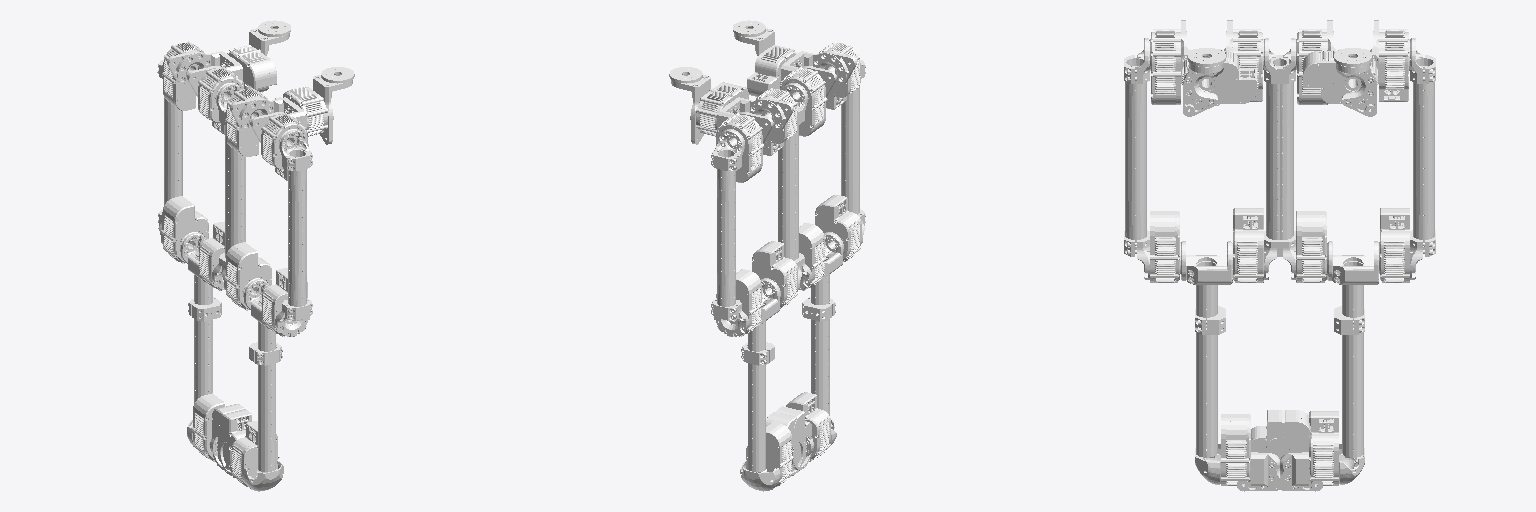
--- Render facts (derived) ---
Views: 3 orthographic renders of the robot side by side, from view 1: azimuth 30°, elevation 25°; view 2: azimuth 150°, elevation 25°; view 3: azimuth 270°, elevation 25°.
Robot: Florence — 26 links, 25 joints (12 revolute, 13 fixed); root link World; default pose: all joints at 0.
Visible links, largest first — view 1: Link3R, Link3L, Link4R, Link4L, Link2R, Link2L, Link1R, Link1L, Link5L, Link5R; view 2: Link3L, Link3R, Link4L, Link4R, Link2L, Link2R, Link1L, Link1R, Link5L, Link5R; view 3: Link3L, Link3R, Link4L, Link4R, Link2R, Link2L, Link1R, Link1L, Link5R, Link5L.
Link boxes in pixels (x1=…): Link3R: x1=222, y1=106, x2=312, y2=336; Link3L: x1=157, y1=60, x2=241, y2=290; Link4R: x1=232, y1=277, x2=283, y2=491; Link4L: x1=179, y1=231, x2=224, y2=461; Link2R: x1=225, y1=88, x2=308, y2=180; Link2L: x1=162, y1=41, x2=243, y2=134; Link1R: x1=275, y1=67, x2=354, y2=144; Link1L: x1=227, y1=20, x2=290, y2=92; Link5L: x1=209, y1=409, x2=251, y2=477; Link5R: x1=212, y1=404, x2=244, y2=470; Link3L: x1=711, y1=106, x2=801, y2=336; Link3R: x1=782, y1=60, x2=865, y2=290; Link4L: x1=740, y1=277, x2=793, y2=491; Link4R: x1=786, y1=231, x2=844, y2=461; Link2L: x1=716, y1=88, x2=796, y2=182; Link2R: x1=780, y1=42, x2=860, y2=136; Link1L: x1=669, y1=67, x2=748, y2=144; Link1R: x1=733, y1=20, x2=796, y2=96; Link5L: x1=776, y1=406, x2=812, y2=472; Link5R: x1=766, y1=412, x2=814, y2=477; Link3L: x1=1271, y1=38, x2=1435, y2=282; Link3R: x1=1124, y1=38, x2=1288, y2=282; Link4L: x1=1309, y1=241, x2=1379, y2=485; Link4R: x1=1180, y1=241, x2=1250, y2=485; Link2R: x1=1151, y1=20, x2=1262, y2=104; Link2L: x1=1297, y1=20, x2=1408, y2=104; Link1R: x1=1182, y1=48, x2=1256, y2=116; Link1L: x1=1303, y1=48, x2=1377, y2=116; Link5R: x1=1251, y1=410, x2=1322, y2=491; Link5L: x1=1237, y1=410, x2=1308, y2=491.
Size in the robot's own frame: 0.2155 by 0.4527 by 0.7491 metres.
Meshes: 10 distinct files referenced, 10 mesh visuals loaded (8 binary STL); not drawn: 3 (reference not matched to a file when rendering).

robot.urdf — Florence:
<?xml version="1.0"?>
<robot name="Florence">
    <link name="World"></link>

    ## BASE LINK
    <link name="FloBase">
        <inertial>
            <origin xyz="0.0066 -0.0002 0.0545" rpy="0 0 0"/>
            <mass value="18.3700"/>
            <inertia ixx="0.1768"  ixy="-0.0010"  ixz="0.0231" iyy="0.1913" iyz="0" izz="0.2864" />
        </inertial>
        <visual>
            <origin xyz="0 0 0" rpy="0 0 0" />
            <geometry>
                <mesh filename="package://florence_description/meshes/Base_rem.stl" />
            </geometry>
            <material name="Cyan">
                <color rgba="1.0 1.0 1.0 0.2"/>
            </material>
        </visual>

        #collision body base
        <collision>
            <origin xyz="0 0 0" rpy="0 0 0" />
            <geometry>
                <cylinder radius="0.301" length="0.038"/>
            </geometry>
        </collision>
        #collision body motor left
        <collision>
            <origin xyz="0.1680 0.0970 -0.0430" rpy="0 0 0.5236" />
            <geometry>
                <box size="0.1110 0.0740 0.0440"/>
            </geometry>
        </collision>
        #collision body motor right
        <collision>
            <origin xyz="0.1680 -0.0970 -0.0430" rpy="0 0 -0.5236" />
            <geometry>
                <box size="0.1110 0.0740 0.0440"/>
            </geometry>
        </collision>
    </link>

    <joint name="FloBaseJoint" type="fixed"><origin xyz="0 0 0.0" rpy="0 0 0"/><parent link="World"/><child link="FloBase"/></joint>


    ## LINK 1:
    # left
    <link name="Link1L">
        <inertial>
            <origin xyz="-0.0490 0.0102 0.0914" rpy="0 0 0"/>
            <mass value="0.7600"/>
            <inertia ixx="0.9643E-3"  ixy="9.6590e-05"  ixz="2.2060e-04" iyy="8.5310e-04" iyz="-1.3100e-05" izz="8.2910e-04" />
        </inertial>
        <visual>
            <origin xyz="0 0 0" rpy="0 0 0" />
            <geometry>
                <mesh filename="package://florence_description/meshes/Link1L_rem.stl" />
            </geometry>
            <material name="Cyan">
                <color rgba="1.0 1.0 1.0 0.2"/>
            </material>
        </visual>

        #collision body holder
        <!--collision>
            <origin xyz="-0.0380 -0.0350 0.0451" rpy="0 0 0" />
            <geometry>
                <box size="1.55e-05	 4e-05  0.000105"/>
            </geometry>
        </collision-->
        #collision body motor
        <collision>
            <origin xyz="-0.0595    0.0185    0.1001" rpy="0 0 0" />
            <geometry>
                <box size="0.0440 0.1110 0.0740"/>
            </geometry>
        </collision>
    </link>

    <joint name="LefHipYaw" type="revolute">
        <origin xyz="0.1841 0.1063 -0.0210" rpy="3.1416 0 0"/>
        <parent link="FloBase"/>
        <child link="Link1L"/>
        <axis xyz="0 0 1" />
        <limit lower="-1.5708" upper="1.5708" effort="150" velocity="1.5"/>
    </joint>

    # right
    <link name="Link1R">
        <inertial>
            <origin xyz="-0.0490 0.0102 0.0914" rpy="0 0 0"/>
            <mass value="0.7600"/>
            <inertia ixx="9.6430e-04"  ixy="-5.4240e-05"  ixz="2.2610e-05" iyy="8.5310e-04" iyz="8.5980e-05" izz="8.2910e-04" />
        </inertial>
        <visual>
            <origin xyz="0 0 0" rpy="0 0 0" />
            <geometry>
                <mesh filename="package://florence_description/meshes/Link1R_rem.stl" />
            </geometry>
            <material name="Cyan">
                <color rgba="1.0 1.0 1.0 0.2"/>
            </material>
        </visual>

        #collision body holder
        <!--collision>
           <origin xyz="-0.0380   -0.0250    0.0451" rpy="0 0 0" />
            <geometry>
                <box size="0.0155 0.0400 0.1050"/>
            </geometry>
        </collision-->
        #collision body motor
        <collision>
            <origin xyz="-0.0595   -0.0185    0.1001" rpy="0 0 0" />
            <geometry>
                <box size="0.0440 0.1110 0.0740"/>
            </geometry>
        </collision>
    </link>

    <joint name="RigHipYaw" type="revolute">
        <origin xyz="0.1841 -0.1063 -0.0210" rpy="3.1416 0 0"/>
        <parent link="FloBase"/>
        <child link="Link1R"/>
        <axis xyz="0 0 1" />
        <limit lower="-1.5708" upper="1.5708" effort="150" velocity="1.5"/>
    </joint>


    ## LINK 2:
    # left
    <link name="Link2L">
        <inertial>
            <origin xyz="0.0110 -0.0002 0.0951" rpy="0 0 0"/>
            <mass value="1.4279"/>
            <inertia ixx="0.0051"  ixy="0"  ixz="-0.0001" iyy="0.0017" iyz="0.0001" izz="0.0052" />
        </inertial>
        <visual>
            <origin xyz="0 0 0" rpy="0 0 0" />
            <geometry>
                <mesh filename="package://florence_description/meshes/Link2_rem.stl" />
            </geometry>
            <material name="Cyan">
                <color rgba="1.0 1.0 1.0 0.2"/>
            </material>
        </visual>

        #collision body motor 1
        <collision>
           <origin xyz="0.0185 -0.0595 0.1001" rpy="0 0 0" />
            <geometry>
                <box size="0.1110 0.0440 0.0740"/>
            </geometry>
        </collision>
        #collision body motor 2
        <collision>
            <origin xyz="0.0185 0.0590 0.1001" rpy="0 0 0" />
            <geometry>
                <box size="0.1110 0.0440 0.0740"/>
            </geometry>
        </collision>
        #collision body holder
        <collision>
            <origin xyz="-0.0050 0 0.0975" rpy="0 0 0" />
            <geometry>
                <box size="0.0600 0.0750 0.1050"/>
            </geometry>
        </collision>
    </link>

    <joint name="LefHipRoll" type="revolute">
        <origin xyz="-0.0375 0 0.1001" rpy="0 -1.5708 0"/>
        <parent link="Link1L"/>
        <child link="Link2L"/>
        <axis xyz="0 0 1" />
        <limit lower="-1.5708" upper="1.5708" effort="150" velocity="1.5"/>
    </joint>

    # right
    <link name="Link2R">
        <inertial>
            <origin xyz="0.0110 -0.0002 0.0951" rpy="0 0 0"/>
            <mass value="1.4279"/>
            <inertia ixx="0.0051"  ixy="0"  ixz="-0.0001" iyy="0.0017" iyz="0.0001" izz="0.0052" />
        </inertial>
        <visual>
            <origin xyz="0 0 0" rpy="0 0 0" />
            <geometry>
                <mesh filename="package://florence_description/meshes/Link2_rem.stl" />
            </geometry>
            <material name="Cyan">
                <color rgba="1.0 1.0 1.0 0.2"/>
            </material>
        </visual>

        #collision body motor 1
        <collision>
           <origin xyz="0.0185 -0.0595 0.1001" rpy="0 0 0" />
            <geometry>
                <box size="0.1110 0.0440 0.0740"/>
            </geometry>
        </collision>
        #collision body motor 2
        <collision>
            <origin xyz="0.0185 0.0590 0.1001" rpy="0 0 0" />
            <geometry>
                <box size="0.1110 0.0440 0.0740"/>
            </geometry>
        </collision>
        #collision body holder
        <collision>
            <origin xyz="-0.0050 0 0.0975" rpy="0 0 0" />
            <geometry>
                <box size="0.0600 0.0750 0.1050"/>
            </geometry>
        </collision>
    </link>

    <joint name="RigHipRoll" type="revolute">
        <origin xyz="-0.0375 0 0.1001" rpy="0 -1.5708 0"/>
        <parent link="Link1R"/>
        <child link="Link2R"/>
        <axis xyz="0 0 1" />
        <limit lower="-1.5708" upper="1.5708" effort="150" velocity="1.5"/>
    </joint>

    ## LINK 3:
    # left
    <link name="Link3L">
        <inertial>
            <origin xyz="0.2578 0 0" rpy="0 0 0"/>
            <mass value="1.7659"/>
            <inertia ixx="0.0109"  ixy="0"  ixz="0" iyy="0.0307" iyz="0" izz="0.0209" />
        </inertial>
        <visual>
            <origin xyz="0 0 0" rpy="0 0 0" />
            <geometry>
                <mesh filename="package://florence_description/meshes/Link3_rtbox_rem.stl" />
            </geometry>
            <material name="Cyan">
                <color rgba="1.0 1.0 1.0 0.2"/>
            </material>
        </visual>

        #collision body motor 1
        <collision>
           <origin xyz="0.3070 0 -0.0605" rpy="0 0 0" />
            <geometry>
                <box size="0.1110 0.0740 0.0440"/>
            </geometry>
        </collision>
        #collision body motor 2
        <collision>
           <origin xyz="0.3070 0 0.0605" rpy="0 0 0" />
            <geometry>
                <box size="0.1110 0.0740 0.0440"/>
            </geometry>
        </collision>
        #collision body rod 1
        <collision>
           <origin xyz="0.1625 0 -0.1026" rpy="0 0 0" />
            <geometry>
                <box size="0.3000 0.0480 0.0350"/>
            </geometry>
        </collision>
        #collision body rod 2
        <collision>
           <origin xyz="0.1625 0 0.1026" rpy="0 0 0" />
            <geometry>
                <box size="0.3000 0.0480 0.0350"/>
            </geometry>
        </collision>
    </link>

    <joint name="LefHipPitch" type="revolute">
        <origin xyz="0 0 0.1001" rpy="-1.5708 0 0"/>
        <parent link="Link2L"/>
        <child link="Link3L"/>
        <axis xyz="0 0 1" />
        <limit lower="-1.5708" upper="1.5708" effort="150" velocity="1.5"/>
    </joint>

    # right
    <link name="Link3R">
        <inertial>
            <origin xyz="0.2578 0 0" rpy="0 0 0"/>
            <mass value="1.7659"/>
            <inertia ixx="0.0109"  ixy="0"  ixz="0" iyy="0.0307" iyz="0" izz="0.0209" />
        </inertial>
        <visual>
            <origin xyz="0 0 0" rpy="0 0 0" />
            <geometry>
                <mesh filename="package://florence_description/meshes/Link3_rtbox_rem.stl" />
            </geometry>
            <material name="Cyan">
                <color rgba="1.0 1.0 1.0 0.2"/>
            </material>
        </visual>

        #collision body motor 1
        <collision>
           <origin xyz="0.3070 0 -0.0605" rpy="0 0 0" />
            <geometry>
                <box size="0.1110 0.0740 0.0440"/>
            </geometry>
        </collision>
        #collision body motor 2
        <collision>
           <origin xyz="0.3070 0 0.0605" rpy="0 0 0" />
            <geometry>
                <box size="0.1110 0.0740 0.0440"/>
            </geometry>
        </collision>
        #collision body rod 1
        <collision>
           <origin xyz="0.1625 0 -0.1026" rpy="0 0 0" />
            <geometry>
                <box size="0.3000 0.0480 0.0350"/>
            </geometry>
        </collision>
        #collision body rod 2
        <collision>
           <origin xyz="0.1625 0 0.1026" rpy="0 0 0" />
            <geometry>
                <box size="0.3000 0.0480 0.0350"/>
            </geometry>
        </collision>
    </link>

    <joint name="RigHipPitch" type="revolute">
        <origin xyz="0 0 0.1001" rpy="-1.5708 0 0"/>
        <parent link="Link2R"/>
        <child link="Link3R"/>
        <axis xyz="0 0 1" />
        <limit lower="-1.5708" upper="1.5708" effort="150" velocity="1.5"/>
    </joint>


    ## LINK 4:
    # left
    <link name="Link4L">
        <inertial>
            <origin xyz="0.1945 0.0003 -0.0137" rpy="0 0 0"/>
            <mass value="1.0127"/>
            <inertia ixx="0.0010"  ixy="0.0001"  ixz="-0.0020" iyy="0.0222" iyz="0" izz="0.0218" />
        </inertial>
        <visual>
            <origin xyz="0 0 0" rpy="0 0 0" />
            <geometry>
                <mesh filename="package://florence_description/meshes/Link4L_rtbox_rem.stl" />
            </geometry>
            <material name="Cyan">
                <color rgba="1.0 1.0 1.0 0.2"/>
            </material>
        </visual>

        #collision body motor
        <collision>
           <origin xyz="0.3065 0 -0.0420" rpy="0 0 0" />
            <geometry>
                <box size="0.1110 0.0740 0.0440"/>
            </geometry>
        </collision>

        #collision body rod
        <collision>
           <origin xyz="0.1968 0 -0.0010" rpy="0 0 0" />
            <geometry>
                <box size="0.3225 0.0480 0.0370"/>
            </geometry>
        </collision>

        #collision body holder
        <collision>
           <origin xyz="0.0055 0 0" rpy="0 0 0" />
            <geometry>
                <box size="0.0600 0.0480 0.0749"/>
            </geometry>
        </collision>

    </link>

    <joint name="LefKneePitch" type="revolute">
        <origin xyz="0.3255 0 0" rpy="0 0 0"/>
        <parent link="Link3L"/>
        <child link="Link4L"/>
        <axis xyz="0 0 1" />
        <limit lower="-1.5708" upper="1.5708" effort="150" velocity="1.5"/>
    </joint>

    # right
    <link name="Link4R">
        <inertial>
            <origin xyz="0.1945 0.0003 -0.0137" rpy="0 0 0"/>
            <mass value="1.0127"/>
            <inertia ixx="0.0010"  ixy="-0.0001"  ixz="0.0020" iyy="0.0222" iyz="0" izz="0.0218" />
        </inertial>
        <visual>
            <origin xyz="0 0 0" rpy="0 0 0" />
            <geometry>
                <mesh filename="package://florence_description/meshes/Link4R_rtbox_rem.stl" />
            </geometry>
            <material name="Cyan">
                <color rgba="1.0 1.0 1.0 0.2"/>
            </material>
        </visual>

        #collision body motor
        <collision>
           <origin xyz="0.3065 0 0.0420" rpy="0 0 0" />
            <geometry>
                <box size="0.1110 0.0740 0.0440"/>
            </geometry>
        </collision>

        #collision body rod
        <collision>
           <origin xyz="0.1968 0 -0.0010" rpy="0 0 0" />
            <geometry>
                <box size="0.3225 0.0480 0.0370"/>
            </geometry>
        </collision>

        #collision body holder
        <collision>
           <origin xyz="0.0055 0 0" rpy="0 0 0" />
            <geometry>
                <box size="0.0600 0.0480 0.0749"/>
            </geometry>
        </collision>

    </link>

    <joint name="RigKneePitch" type="revolute">
        <origin xyz="0.3255 0 0" rpy="0 0 0"/>
        <parent link="Link3R"/>
        <child link="Link4R"/>
        <axis xyz="0 0 1" />
        <limit lower="-1.5708" upper="1.5708" effort="150" velocity="1.5"/>
    </joint>

    ## LINK 5:
    # left
    <link name="Link5L">
        <inertial>
            <origin xyz="-0.0091 0.0112 0.0754" rpy="0 0 0"/>
            <mass value="0.5637"/>
            <inertia ixx="0.4810E-3"  ixy="-0.0306E-3"  ixz="0.0132E-3" iyy="0.7391E-3" iyz="-0.0105E-3" izz="0.4231E-3" />
        </inertial>
        <visual>
            <origin xyz="0 0 0" rpy="0 0 0" />
            <geometry>
                <mesh filename="package://florence_description/meshes/Link5L_rem.stl" />
            </geometry>
            <material name="Cyan">
                <color rgba="1.0 1.0 1.0 0.2"/>
            </material>
        </visual>

        #collision body motor
        <collision>
           <origin xyz="-0.0185 0.0005 0.0990" rpy="0 0 0" />
            <geometry>
                <box size="0.1110 0.0440 0.0740"/>
            </geometry>
        </collision>

        #collision body holder
        <collision>
           <origin xyz="0.0050 0.0297 0.0965" rpy="0 0 0" />
            <geometry>
                <box size="0.0600 0.0155 0.1050"/>
            </geometry>
        </collision>

    </link>

    <joint name="LefAnklePitch" type="revolute">
        <origin xyz="0.3250 0 0.0200" rpy="0 0 0"/>
        <parent link="Link4L"/>
        <child link="Link5L"/>
        <axis xyz="0 0 1" />
        <limit lower="-1.5708" upper="1.5708" effort="150" velocity="1.5"/>
    </joint>

    # right
    <link name="Link5R">
        <inertial>
            <origin xyz="-0.0091 -0.0112 0.0777" rpy="0 0 0"/>
            <mass value="0.5637"/>
            <inertia ixx="0.5050E-3"  ixy="0.0306E-3"  ixz="0.0676E-3" iyy="0.7631E-3" iyz="0.0061E-3" izz="0.4231E-3" />
        </inertial>
        <visual>
            <origin xyz="0 0 0" rpy="0 0 0" />
            <geometry>
                <mesh filename="package://florence_description/meshes/Link5R_rem.stl" />
            </geometry>
            <material name="Cyan">
                <color rgba="1.0 1.0 1.0 0.2"/>
            </material>
        </visual>

        #collision body motor
        <collision>
           <origin xyz="-0.0185 -0.0010 0.0990" rpy="0 0 0" />
            <geometry>
                <box size="0.1110 0.0440 0.0740"/>
            </geometry>
        </collision>

        #collision body holder
        <collision>
           <origin xyz="0.0050 -0.0297 0.0965" rpy="0 0 0" />
            <geometry>
                <box size="0.0600 0.0155 0.1050"/>
            </geometry>
        </collision>

    </link>

    <joint name="RigAnklePitch" type="revolute">
        <origin xyz="0.3250 0 -0.0200" rpy="3.1416 0 0"/>
        <parent link="Link4R"/>
        <child link="Link5R"/>
        <axis xyz="0 0 1" />
        <limit lower="-1.5708" upper="1.5708" effort="150" velocity="1.5"/>
    </joint>


    ## LINK 6:
    # left
    <link name="Link6L">
        <inertial>
            <origin xyz="0.0712 0.0002 0.0266" rpy="0 0 0"/>
            <mass value="1.2731"/>
            <inertia ixx="0.0083"  ixy="0"  ixz="0.0003" iyy="0.0061" iyz="0" izz="0.0035" />
        </inertial>
        <visual>
            <origin xyz="0 0 0" rpy="0 0 0" />
            <geometry>
                <mesh filename="package://florence_description/meshes/Link6_rem.stl" />
            </geometry>
            <material name="Cyan">
                <color rgba="1.0 1.0 1.0 0.2"/>
            </material>
        </visual>

        #collision body foot
        <collision>
           <origin xyz="0.1008 0 0.0330" rpy="0 0 0" />
            <geometry>
                <box size="0.0367 0.1490 0.1670"/>
            </geometry>
        </collision>
    </link>

    <joint name="LefAnkleRoll" type="revolute">
        <origin xyz="0 0.0230 0.1001" rpy="1.5708 0 0"/>
        <parent link="Link5L"/>
        <child link="Link6L"/>
        <axis xyz="0 0 1" />
        <limit lower="-1.5708" upper="1.5708" effort="150" velocity="1.5"/>
    </joint>

    # right
    <link name="Link6R">
        <inertial>
            <origin xyz="0.0712 -0.0002 0.0266" rpy="0 0 0"/>
            <mass value="1.2731"/>
            <inertia ixx="0.0083"  ixy="0"  ixz="0.0003" iyy="0.0061" iyz="0" izz="0.0035" />
        </inertial>
        <visual>
            <origin xyz="0 0 0" rpy="0 0 0" />
            <geometry>
                <mesh filename="package://florence_description/meshes/Link6_rem.stl" />
            </geometry>
            <material name="Cyan">
                <color rgba="1.0 1.0 1.0 0.2"/>
            </material>
        </visual>

        #collision body foot
        <collision>
           <origin xyz="0.1008 0 0.0330" rpy="0 0 0" />
            <geometry>
                <box size="0.0367 0.1490 0.1670"/>
            </geometry>
        </collision>
    </link>

    <joint name="RigAnkleRoll" type="revolute">
        <origin xyz="0 -0.0230 0.1001" rpy="-1.5708 0 0"/>
        <parent link="Link5R"/>
        <child link="Link6R"/>
        <axis xyz="0 0 1" />
        <limit lower="-1.5708" upper="1.5708" effort="150" velocity="1.5"/>
    </joint>

    ## END EFFECTOR:
    # left
    <link name="EE_L">
        <inertial>
            <origin xyz="0 0 0" rpy="0 0 0"/>
            <mass value="0"/>
            <inertia ixx="0"  ixy="0"  ixz="0" iyy="0" iyz="0" izz="0" />
        </inertial>
    </link>

    <joint name="EndEffectorL" type="fixed">
        <origin xyz="0.1192 0 0.0331" rpy="0 1.5708 3.1416"/>
        <parent link="Link6L"/>
        <child link="EE_L"/>
        <axis xyz="0 0 1" />
    </joint>

    # right
    <link name="EE_R">
        <inertial>
            <origin xyz="0 0 0" rpy="0 0 0"/>
            <mass value="0"/>
            <inertia ixx="0"  ixy="0"  ixz="0" iyy="0" iyz="0" izz="0" />
        </inertial>
    </link>

    <joint name="EndEffectorR" type="fixed">
        <origin xyz="0.1192 0 0.0331" rpy="0 1.5708 3.1416"/>
        <parent link="Link6R"/>
        <child link="EE_R"/>
        <axis xyz="0 0 1" />
    </joint>

    ## LOAD CELLS LEFT:
    <link name="LC_L1">
        <inertial>
            <origin xyz="0 0 0" rpy="0 0 0"/>
            <mass value="0"/>
            <inertia ixx="0"  ixy="0"  ixz="0" iyy="0" iyz="0" izz="0" />
        </inertial>
    </link>

    <link name="LC_L2">
        <inertial>
            <origin xyz="0 0 0" rpy="0 0 0"/>
            <mass value="0"/>
            <inertia ixx="0"  ixy="0"  ixz="0" iyy="0" iyz="0" izz="0" />
        </inertial>
    </link>

    <link name="LC_L3">
        <inertial>
            <origin xyz="0 0 0" rpy="0 0 0"/>
            <mass value="0"/>
            <inertia ixx="0"  ixy="0"  ixz="0" iyy="0" iyz="0" izz="0" />
        </inertial>
    </link>

    <link name="LC_L4">
        <inertial>
            <origin xyz="0 0 0" rpy="0 0 0"/>
            <mass value="0"/>
            <inertia ixx="0"  ixy="0"  ixz="0" iyy="0" iyz="0" izz="0" />
        </inertial>
    </link>

    <joint name="LC_L1joint" type="fixed">
        <origin xyz="0.0520 0.0460 0" rpy="0 0 0"/>
        <parent link="EE_L"/>
        <child link="LC_L1"/>
        <axis xyz="0 0 1" />
    </joint>

    <joint name="LC_L2joint" type="fixed">
        <origin xyz="0.0520 -0.0460 0" rpy="0 0 0"/>
        <parent link="EE_L"/>
        <child link="LC_L2"/>
        <axis xyz="0 0 1" />
    </joint>

    <joint name="LC_L3joint" type="fixed">
        <origin xyz="-0.0520 -0.0460 0" rpy="0 0 0"/>
        <parent link="EE_L"/>
        <child link="LC_L3"/>
        <axis xyz="0 0 1" />
    </joint>

    <joint name="LC_L4joint" type="fixed">
        <origin xyz="-0.0520 0.0460 0" rpy="0 0 0"/>
        <parent link="EE_L"/>
        <child link="LC_L4"/>
        <axis xyz="0 0 1" />
    </joint>

    ## LOAD CELLS RIGHT:
    <link name="LC_R1">
        <inertial>
            <origin xyz="0 0 0" rpy="0 0 0"/>
            <mass value="0"/>
            <inertia ixx="0"  ixy="0"  ixz="0" iyy="0" iyz="0" izz="0" />
        </inertial>
    </link>

    <link name="LC_R2">
        <inertial>
            <origin xyz="0 0 0" rpy="0 0 0"/>
            <mass value="0"/>
            <inertia ixx="0"  ixy="0"  ixz="0" iyy="0" iyz="0" izz="0" />
        </inertial>
    </link>

    <link name="LC_R3">
        <inertial>
            <origin xyz="0 0 0" rpy="0 0 0"/>
            <mass value="0"/>
            <inertia ixx="0"  ixy="0"  ixz="0" iyy="0" iyz="0" izz="0" />
        </inertial>
    </link>

    <link name="LC_R4">
        <inertial>
            <origin xyz="0 0 0" rpy="0 0 0"/>
            <mass value="0"/>
            <inertia ixx="0"  ixy="0"  ixz="0" iyy="0" iyz="0" izz="0" />
        </inertial>
    </link>

    <joint name="LC_R1joint" type="fixed">
        <origin xyz="0.0520 0.0460 0" rpy="0 0 0"/>
        <parent link="EE_R"/>
        <child link="LC_R1"/>
        <axis xyz="0 0 1" />
    </joint>

    <joint name="LC_R2joint" type="fixed">
        <origin xyz="0.0520 -0.0460 0" rpy="0 0 0"/>
        <parent link="EE_R"/>
        <child link="LC_R2"/>
        <axis xyz="0 0 1" />
    </joint>

    <joint name="LC_R3joint" type="fixed">
        <origin xyz="-0.0520 -0.0460 0" rpy="0 0 0"/>
        <parent link="EE_R"/>
        <child link="LC_R3"/>
        <axis xyz="0 0 1" />
    </joint>

    <joint name="LC_R4joint" type="fixed">
        <origin xyz="-0.0520 0.0460 0" rpy="0 0 0"/>
        <parent link="EE_R"/>
        <child link="LC_R4"/>
        <axis xyz="0 0 1" />
    </joint>

    ## relevant IMUs
    #  left IMU
    <link name="IMU_L">
        <inertial>
            <origin xyz="0 0 0" rpy="0 0 0"/>
            <mass value="0"/>
            <inertia ixx="0"  ixy="0"  ixz="0" iyy="0" iyz="0" izz="0" />
        </inertial>
    </link>

    <joint name="IMU_L_joint" type="fixed">
        <origin xyz="0.1841 0.1063 -0.0210" rpy="3.1416 0 0.5236"/>
        <parent link="FloBase"/>
        <child link="IMU_L"/>
        <axis xyz="0 0 1" />
    </joint>

    #  right IMU
    <link name="IMU_R">
        <inertial>
            <origin xyz="0 0 0" rpy="0 0 0"/>
            <mass value="0"/>
            <inertia ixx="0"  ixy="0"  ixz="0" iyy="0" iyz="0" izz="0" />
        </inertial>
    </link>

    <joint name="IMU_R_joint" type="fixed">
        <origin xyz="0.1841 -0.1063 -0.0210" rpy="3.1416 0 -0.5236"/>
        <parent link="FloBase"/>
        <child link="IMU_R"/>
        <axis xyz="0 0 1" />
    </joint>
</robot>
